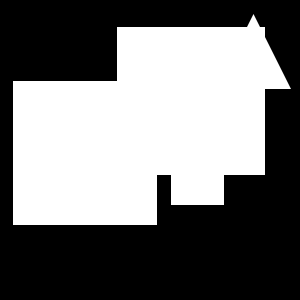circle: (117, 27, 265, 175), (13, 81, 157, 225), (171, 152, 224, 205)
triangle: (216, 14, 291, 89), (140, 104, 197, 161)
